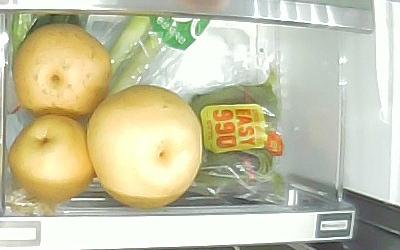pear: (86, 84, 203, 205), (13, 24, 113, 118), (9, 114, 96, 205)
